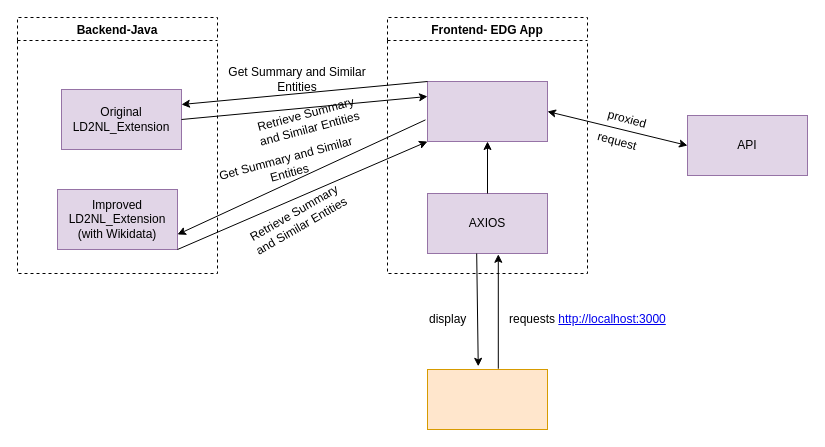
This 825x447 diagram has some shape labels left out. The shapes that lost their labels are listed below. From the top down, each one's centre as x and y in pixels, then its label:
point 487,111: Reactjs
point 487,399: Browser
